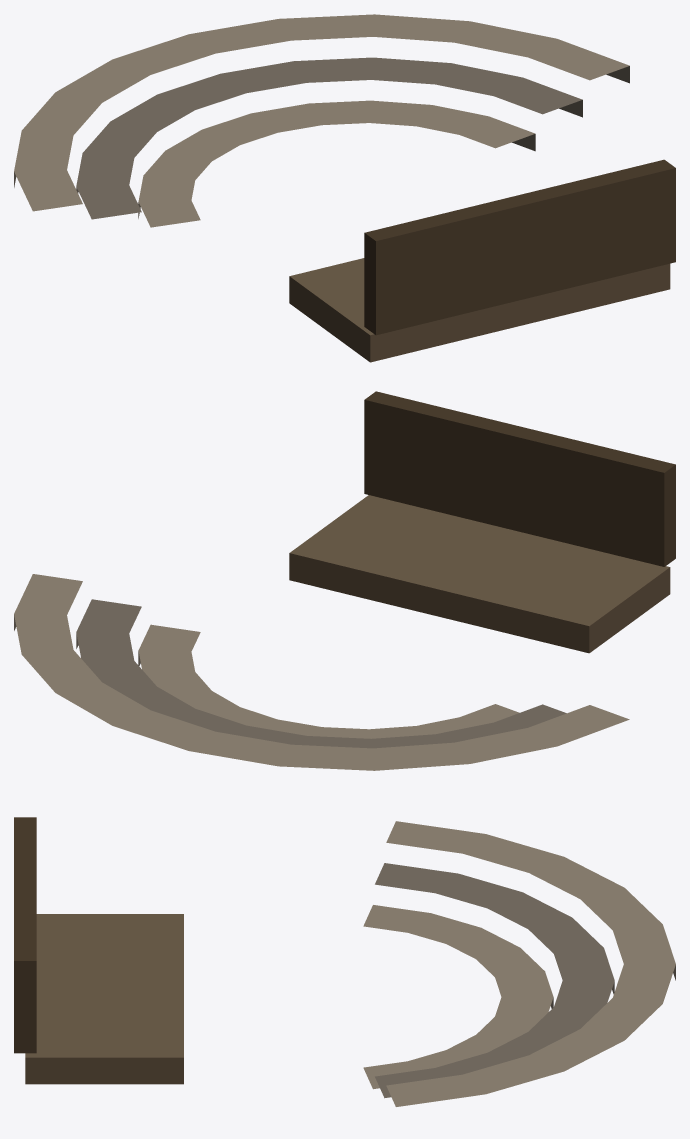
File: amphi-low.glb
The picture shows the model from 3 angles, top to bottom: view 1: azimuth 30°, elevation 25°; view 2: azimuth 150°, elevation 25°; view 3: azimuth 270°, elevation 25°; orthographic projection.
Bounding box in the file's own units: 59.72 × 12.2 × 58.4.
